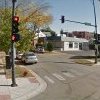crosswalk: (45, 68, 81, 83)
